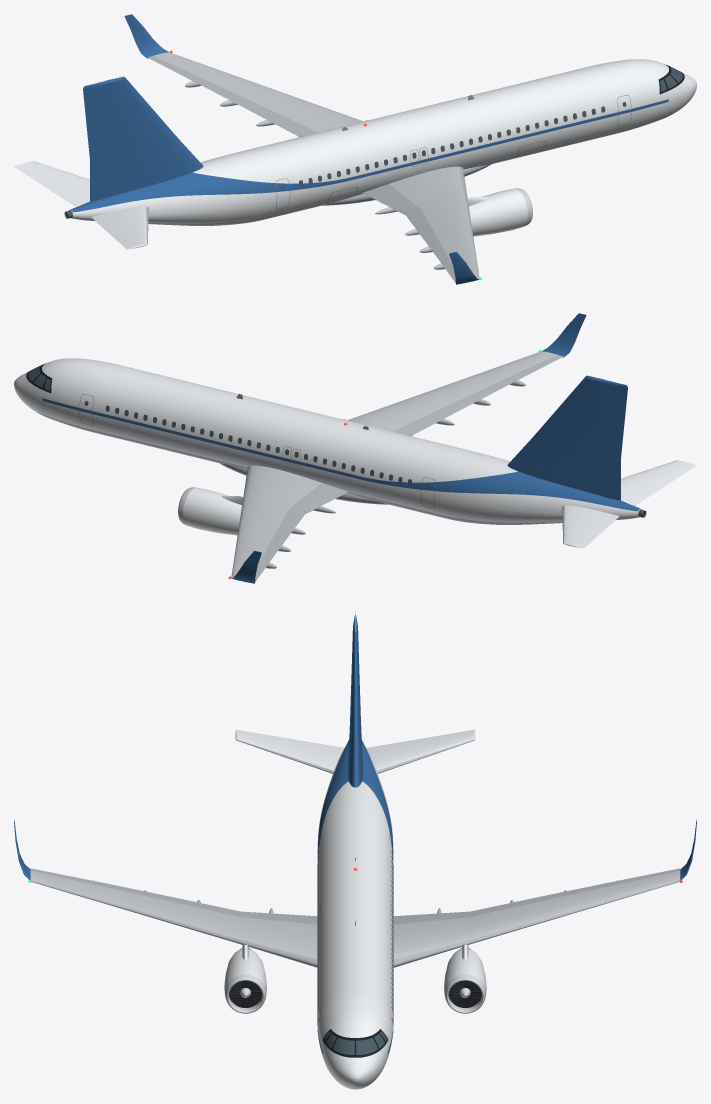
The model's file is airliner.glb.
3 renders of one model, top to bottom at view 1: azimuth 30°, elevation 25°; view 2: azimuth 150°, elevation 25°; view 3: azimuth 270°, elevation 25°, orthographic. The views are drawn at different scales.
Visible parts, largest first — view 1: fuselage, fin, wing_r, wing_l, livery_cheatline, engine_r_nacelle, tailplane_l, tailplane_r, cabin_windows_dark, sharklet_l, cabin_window_glass, sharklet_r (+2 smaller); view 2: fuselage, fin, wing_l, wing_r, livery_cheatline, engine_l_nacelle, tailplane_r, tailplane_l, cabin_windows_dark, sharklet_r, cabin_window_glass, sharklet_l (+2 smaller); view 3: fuselage, wing_r, wing_l, tailplane_r, tailplane_l, livery_cheatline, fin, windscreen_frame, engine_l_nacelle, engine_r_nacelle, windscreen_glass.
Part boxes in pixels (x1=…): fuselage: x1=69, y1=59, x2=696, y2=225; fin: x1=83, y1=76, x2=203, y2=201; wing_r: x1=363, y1=166, x2=479, y2=282; wing_l: x1=147, y1=52, x2=363, y2=137; livery_cheatline: x1=70, y1=99, x2=668, y2=212; engine_r_nacelle: x1=469, y1=188, x2=527, y2=236; tailplane_l: x1=14, y1=161, x2=89, y2=206; tailplane_r: x1=91, y1=206, x2=148, y2=249; cabin_windows_dark: x1=281, y1=102, x2=626, y2=189; sharklet_l: x1=124, y1=14, x2=168, y2=58; cabin_window_glass: x1=281, y1=102, x2=625, y2=189; sharklet_r: x1=449, y1=251, x2=479, y2=284; fuselage: x1=14, y1=358, x2=641, y2=524; fin: x1=507, y1=375, x2=627, y2=500; wing_l: x1=231, y1=465, x2=347, y2=581; wing_r: x1=347, y1=351, x2=563, y2=436; livery_cheatline: x1=42, y1=398, x2=640, y2=511; engine_l_nacelle: x1=183, y1=487, x2=241, y2=535; tailplane_r: x1=621, y1=460, x2=696, y2=505; tailplane_l: x1=562, y1=505, x2=619, y2=548; cabin_windows_dark: x1=84, y1=401, x2=429, y2=488; sharklet_r: x1=542, y1=313, x2=586, y2=357; cabin_window_glass: x1=85, y1=401, x2=429, y2=488; sharklet_l: x1=231, y1=550, x2=261, y2=583; fuselage: x1=317, y1=740, x2=393, y2=1089; wing_r: x1=30, y1=868, x2=317, y2=967; wing_l: x1=393, y1=868, x2=680, y2=967; tailplane_r: x1=235, y1=729, x2=344, y2=773; tailplane_l: x1=366, y1=729, x2=475, y2=773; livery_cheatline: x1=317, y1=740, x2=393, y2=1054; fin: x1=348, y1=612, x2=362, y2=787; windscreen_frame: x1=322, y1=1029, x2=388, y2=1057; engine_l_nacelle: x1=444, y1=949, x2=486, y2=993; engine_r_nacelle: x1=224, y1=949, x2=266, y2=993; windscreen_glass: x1=324, y1=1031, x2=386, y2=1054.
Bounding box in the file's own units: 40 × 11.84 × 35.76.
